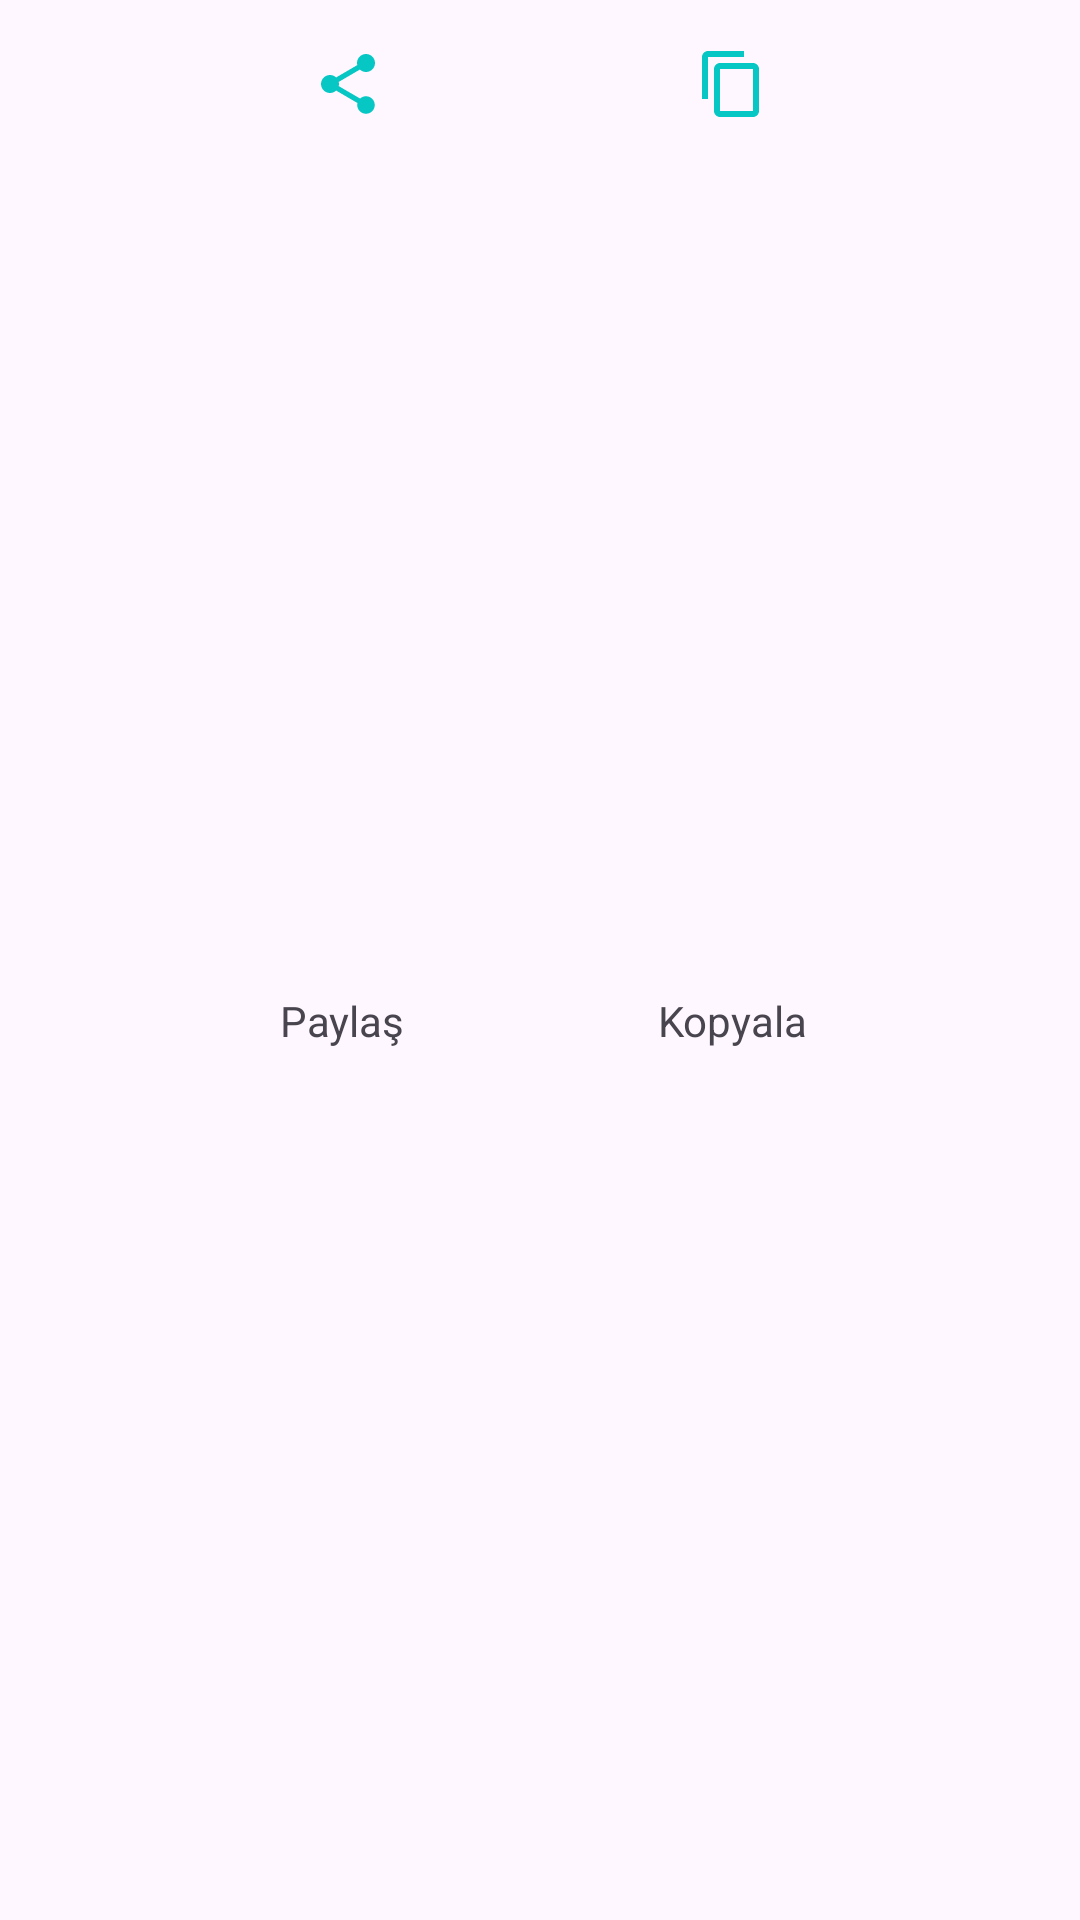

Where to tap for icons on this 1080w x 1920h app screen, as (x=x, y=y):
kopayla resim: (x=730, y=84)
paylas resim: (x=348, y=84)
